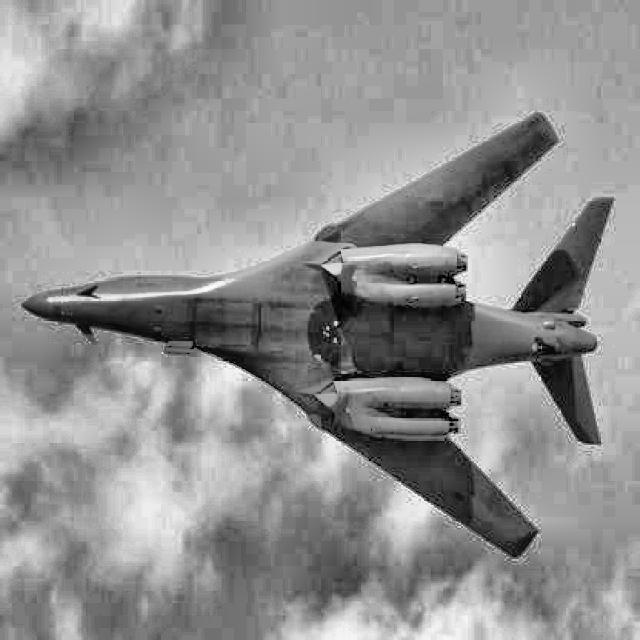B1: (20, 111, 615, 558)
